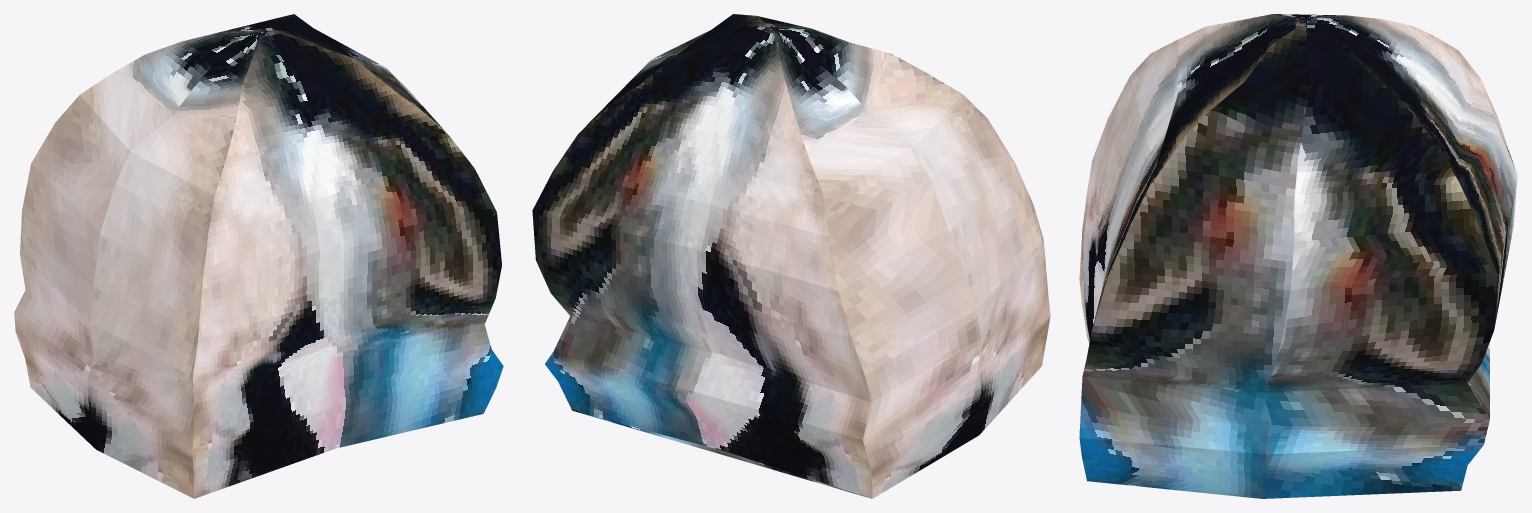
The picture shows the model from 3 angles, left to right: view 1: azimuth 30°, elevation 25°; view 2: azimuth 150°, elevation 25°; view 3: azimuth 270°, elevation 25°; orthographic projection. The views are drawn at different scales.
Parts seen in each view (by area): view 1: SPLICE_2.006; view 2: SPLICE_2.006; view 3: SPLICE_2.006.
Part boxes in pixels (box(x1,y1,x2,y2)): SPLICE_2.006: box(14, 14, 503, 498); SPLICE_2.006: box(532, 14, 1050, 498); SPLICE_2.006: box(1079, 14, 1517, 498).
Bounding box in the file's own units: 1.29 × 1.26 × 1.2.
Materials: 1 (1 with a texture image).
